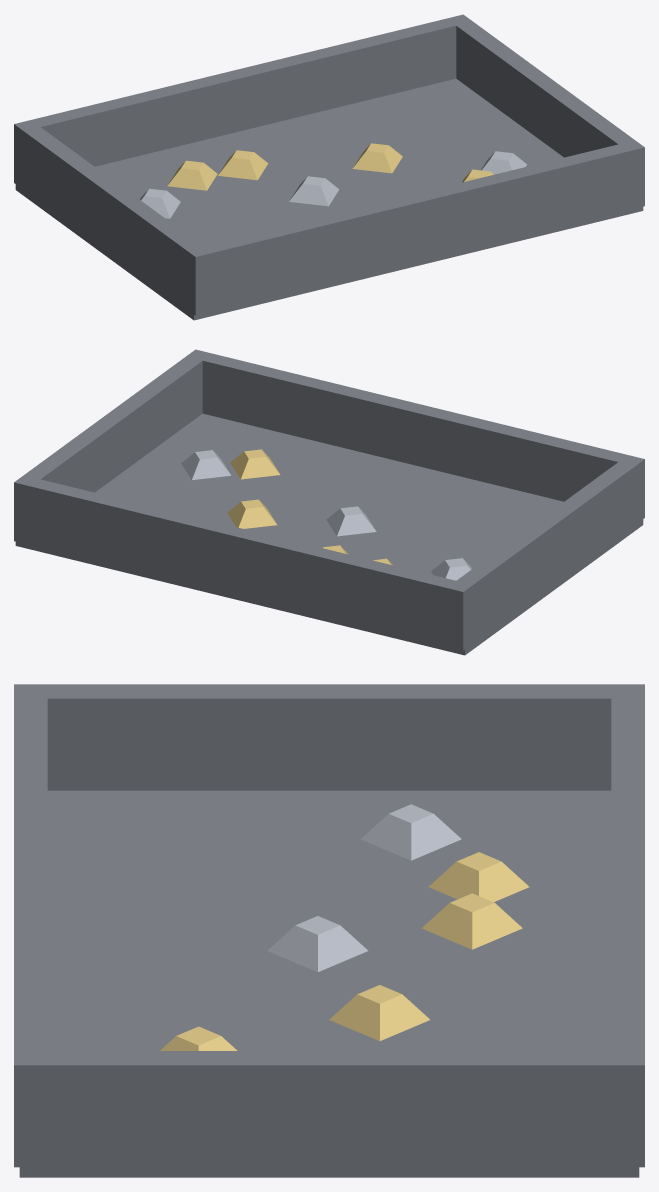
The model's file is prop-upholstery-tacks-tray.fbx.
3 views of the same model, one above another, from view 1: azimuth 30°, elevation 25°; view 2: azimuth 150°, elevation 25°; view 3: azimuth 270°, elevation 25° (orthographic). The views are drawn at different scales.
Parts seen in each view (by area): view 1: prop-upholstery-tacks-tray; view 2: prop-upholstery-tacks-tray; view 3: prop-upholstery-tacks-tray.
Boxes of the visible parts, x1,y1,x2,y2 form: prop-upholstery-tacks-tray: (14,14,644,320); prop-upholstery-tacks-tray: (14,349,644,655); prop-upholstery-tacks-tray: (14,684,644,1177).
Bounding box in the file's own units: 16 × 2.2 × 11.2.
